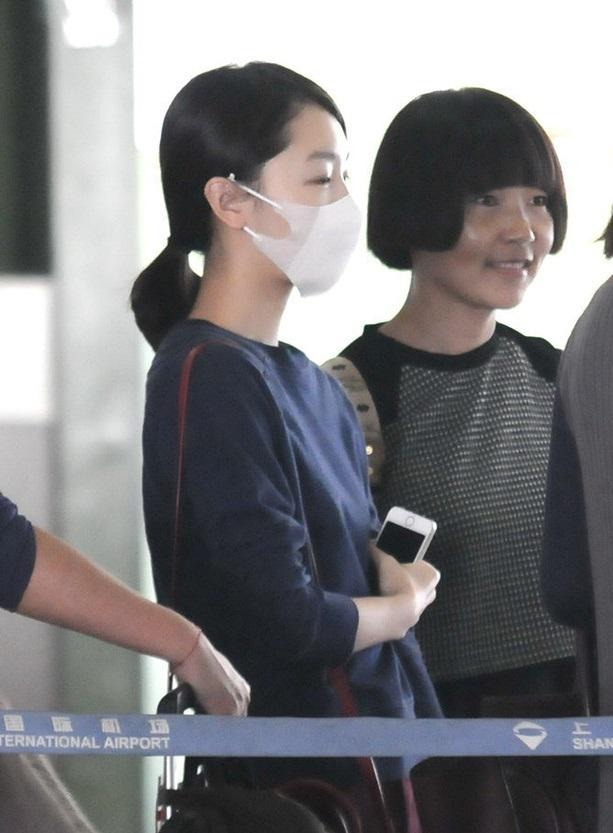NONE: (432, 179, 555, 299)
OK: (217, 137, 369, 289)
